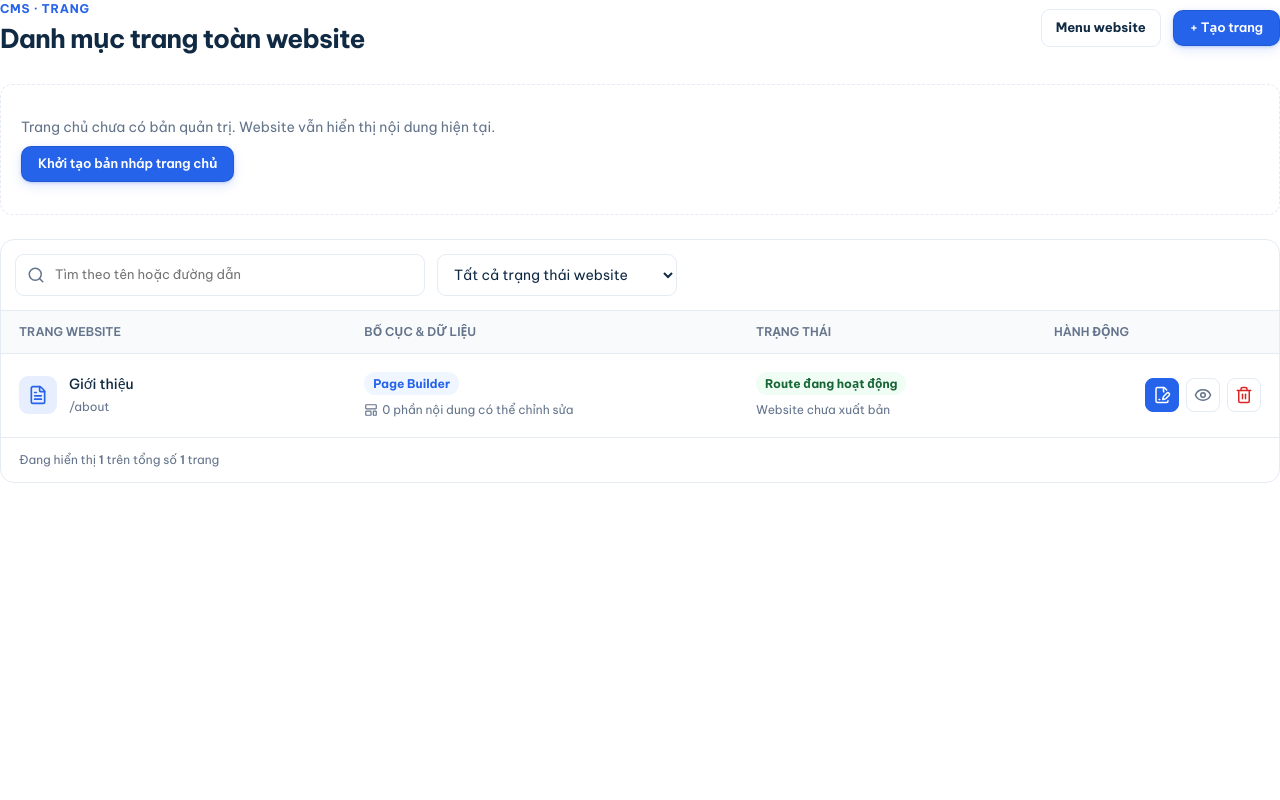
Test: site pages admin draft › allows cancellation before deleting a page
Step 1. Click the button named "Xóa trang Giới thiệu" → coordinates (1244, 395), box 1227,378 -> 1261,412
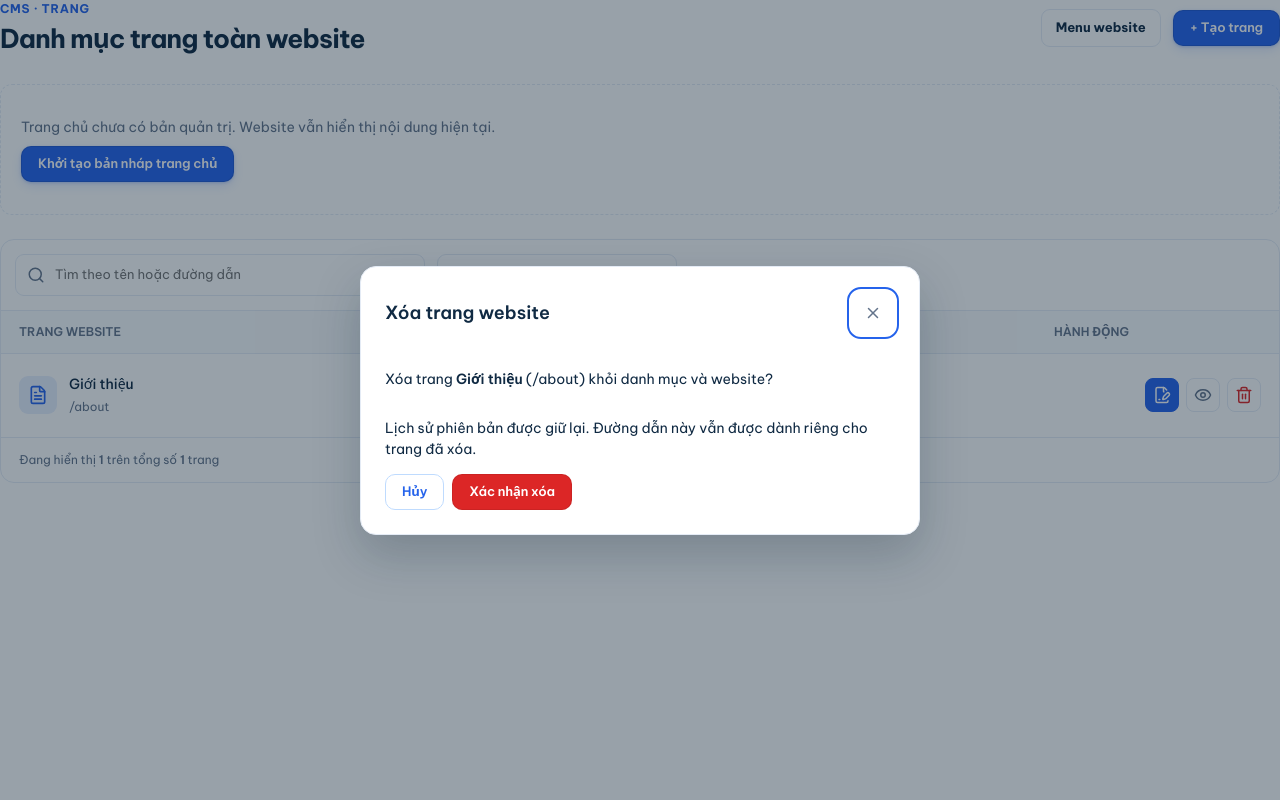
Step 2. Click the button "Hủy" → coordinates (415, 492), box 385,474 -> 444,510
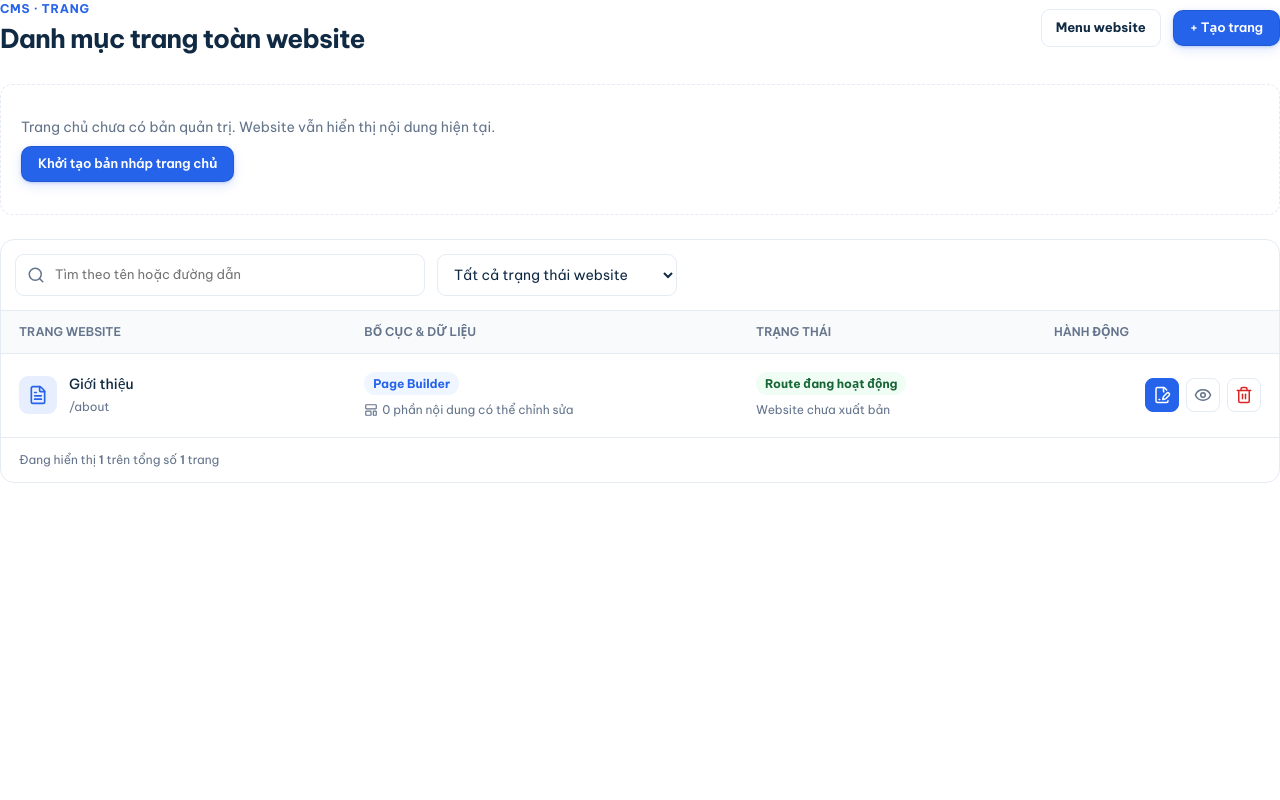
Expected: the dialog is gone
